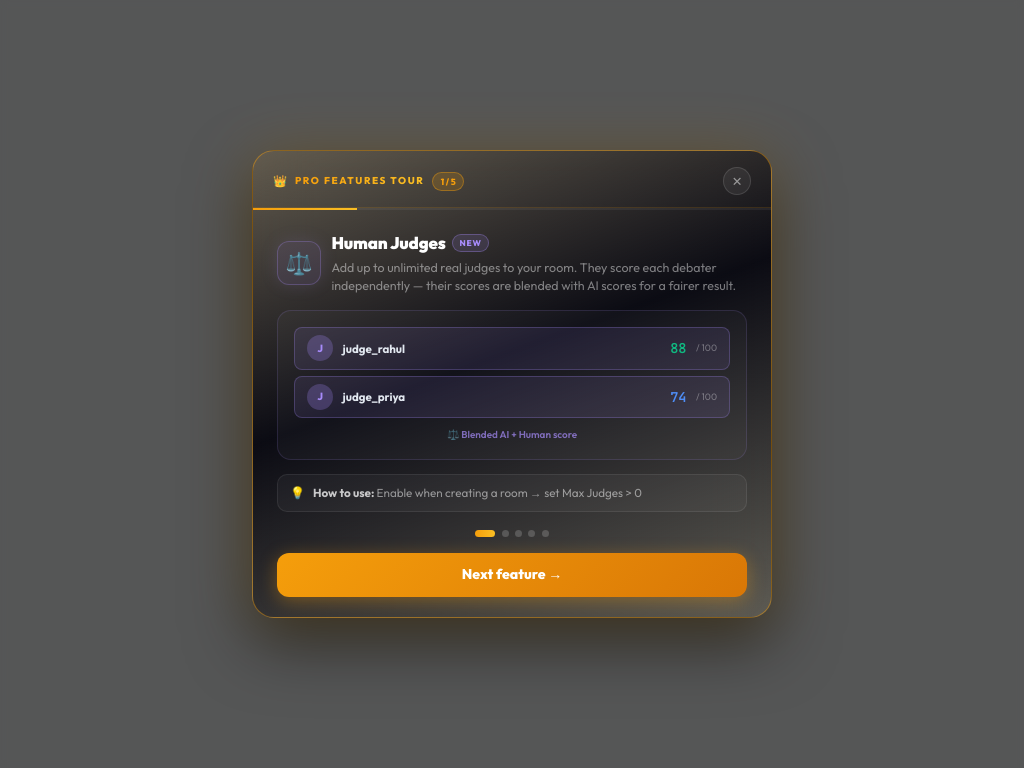
it: ProWelcomeModal — dot indicator navigation › clicking the 3rd dot jumps directly to slide 3 (Buzzer Mode)
The width and height of the screenshot is (1024, 768).
What coordinates should you click on to do the following:
click the 4th button
I would click on:
 (518, 534)
Its box is [515,530,522,537].
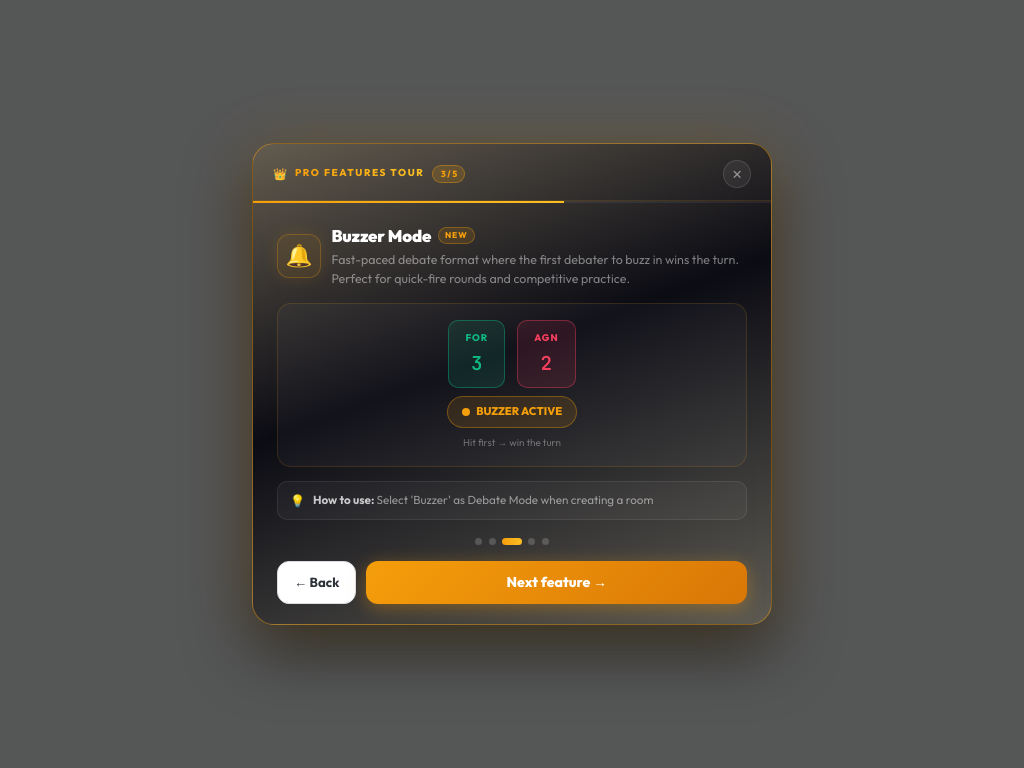
Check: the heading "Buzzer Mode" is shown, box [331,223,431,248]
Check: the text "3 / 5" is shown, box [432,164,465,183]
